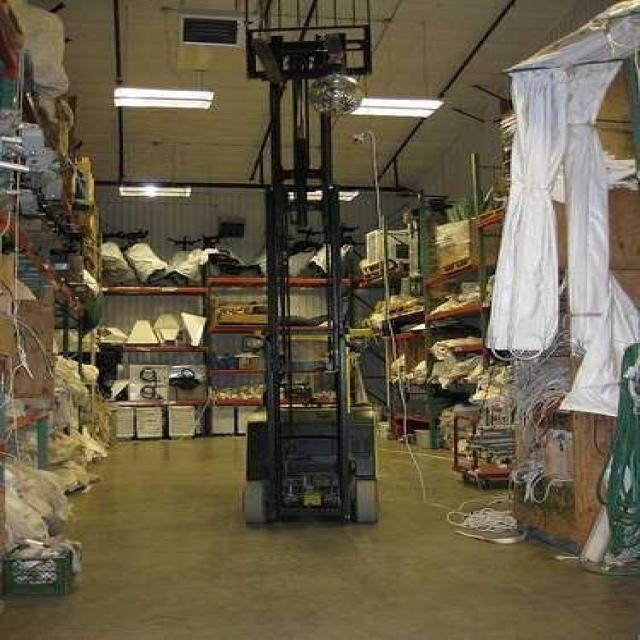forklift: (242, 0, 385, 527)
